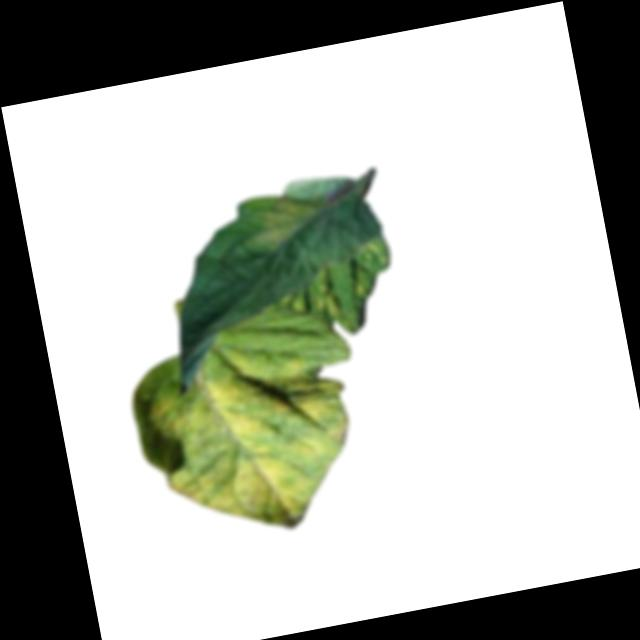Leaf_Mold: (127, 334, 371, 552), (241, 184, 329, 260), (307, 265, 345, 322), (353, 235, 394, 272)
